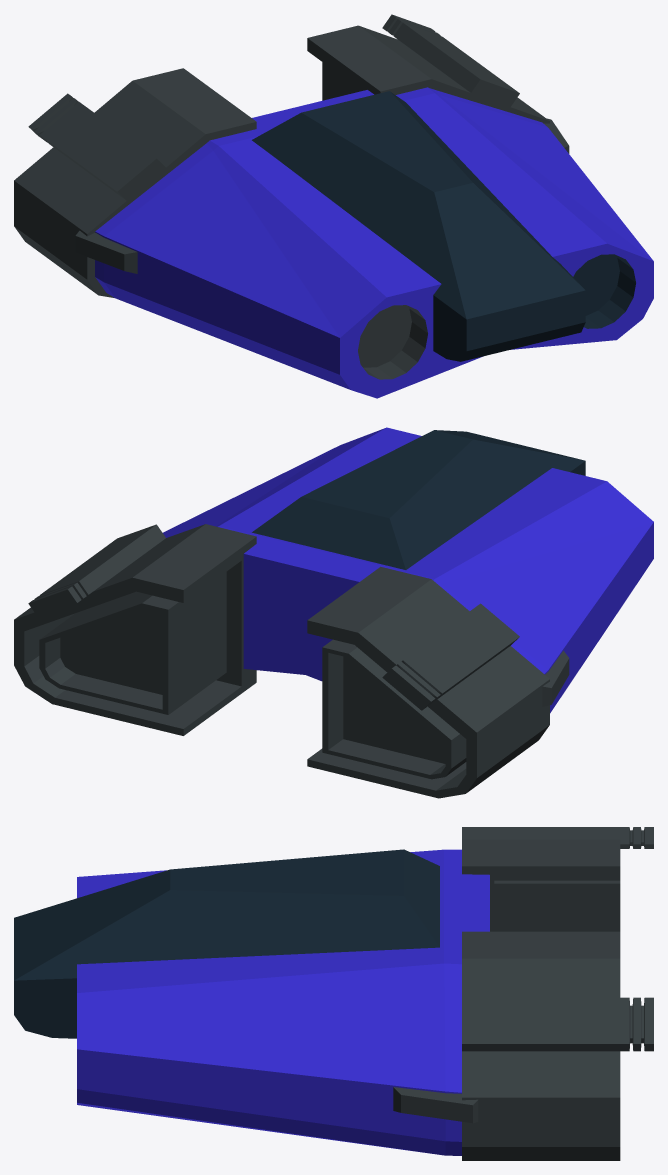
The model's file is SpaceShip1.fbx.
3 views of the same model, one above another, from view 1: azimuth 30°, elevation 25°; view 2: azimuth 150°, elevation 25°; view 3: azimuth 270°, elevation 25° (orthographic). The views are drawn at different scales.
Visible parts, largest first — view 1: SpaceShip_2; view 2: SpaceShip_2; view 3: SpaceShip_2.
Boxes of the visible parts, x1,y1,x2,y2 form: SpaceShip_2: (14, 14, 653, 398); SpaceShip_2: (14, 427, 653, 798); SpaceShip_2: (14, 827, 653, 1160).
Bounding box in the file's own units: 4.47 × 1.53 × 4.82.
